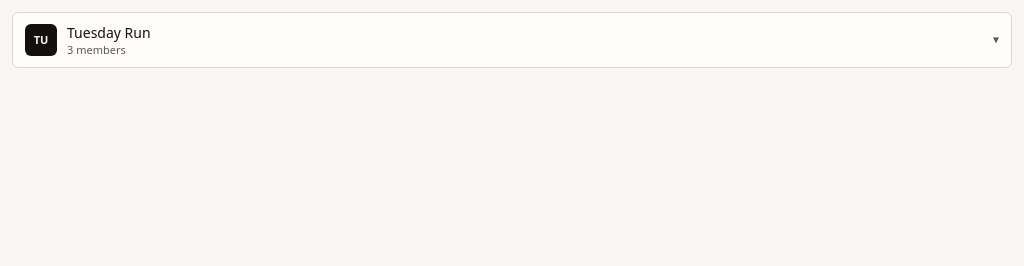
Test: the squad list › marks a personal squad in the list
This screenshot has width=1024, height=266.
Click the button "TU Tuesday Run 3 members ▼": (41, 40) [12,12,1012,68]
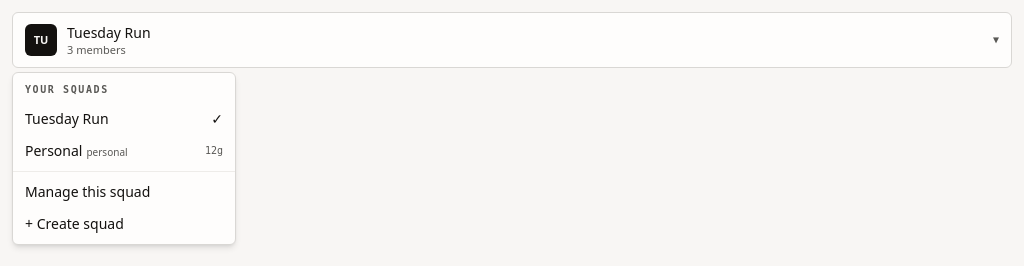
Check: the text "personal" is shown, box [86,145,128,159]
